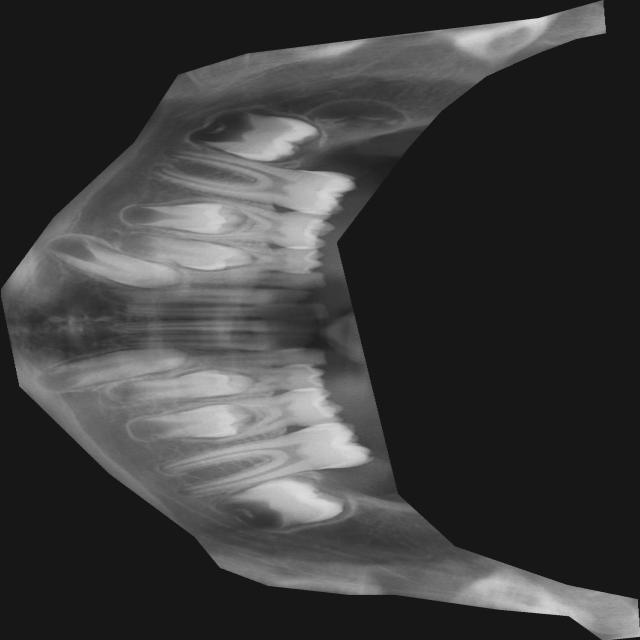mandibula: (0, 0, 640, 640)
